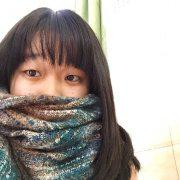WRONG: (11, 53, 92, 135)
